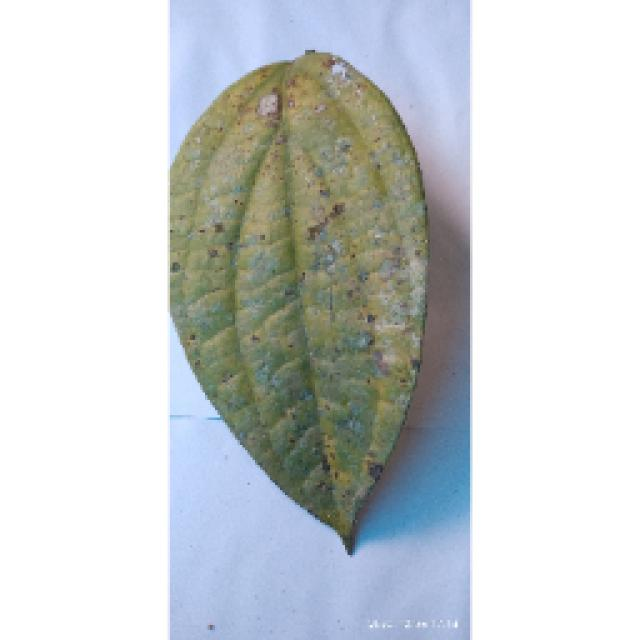slow-decline: (162, 42, 442, 552)
